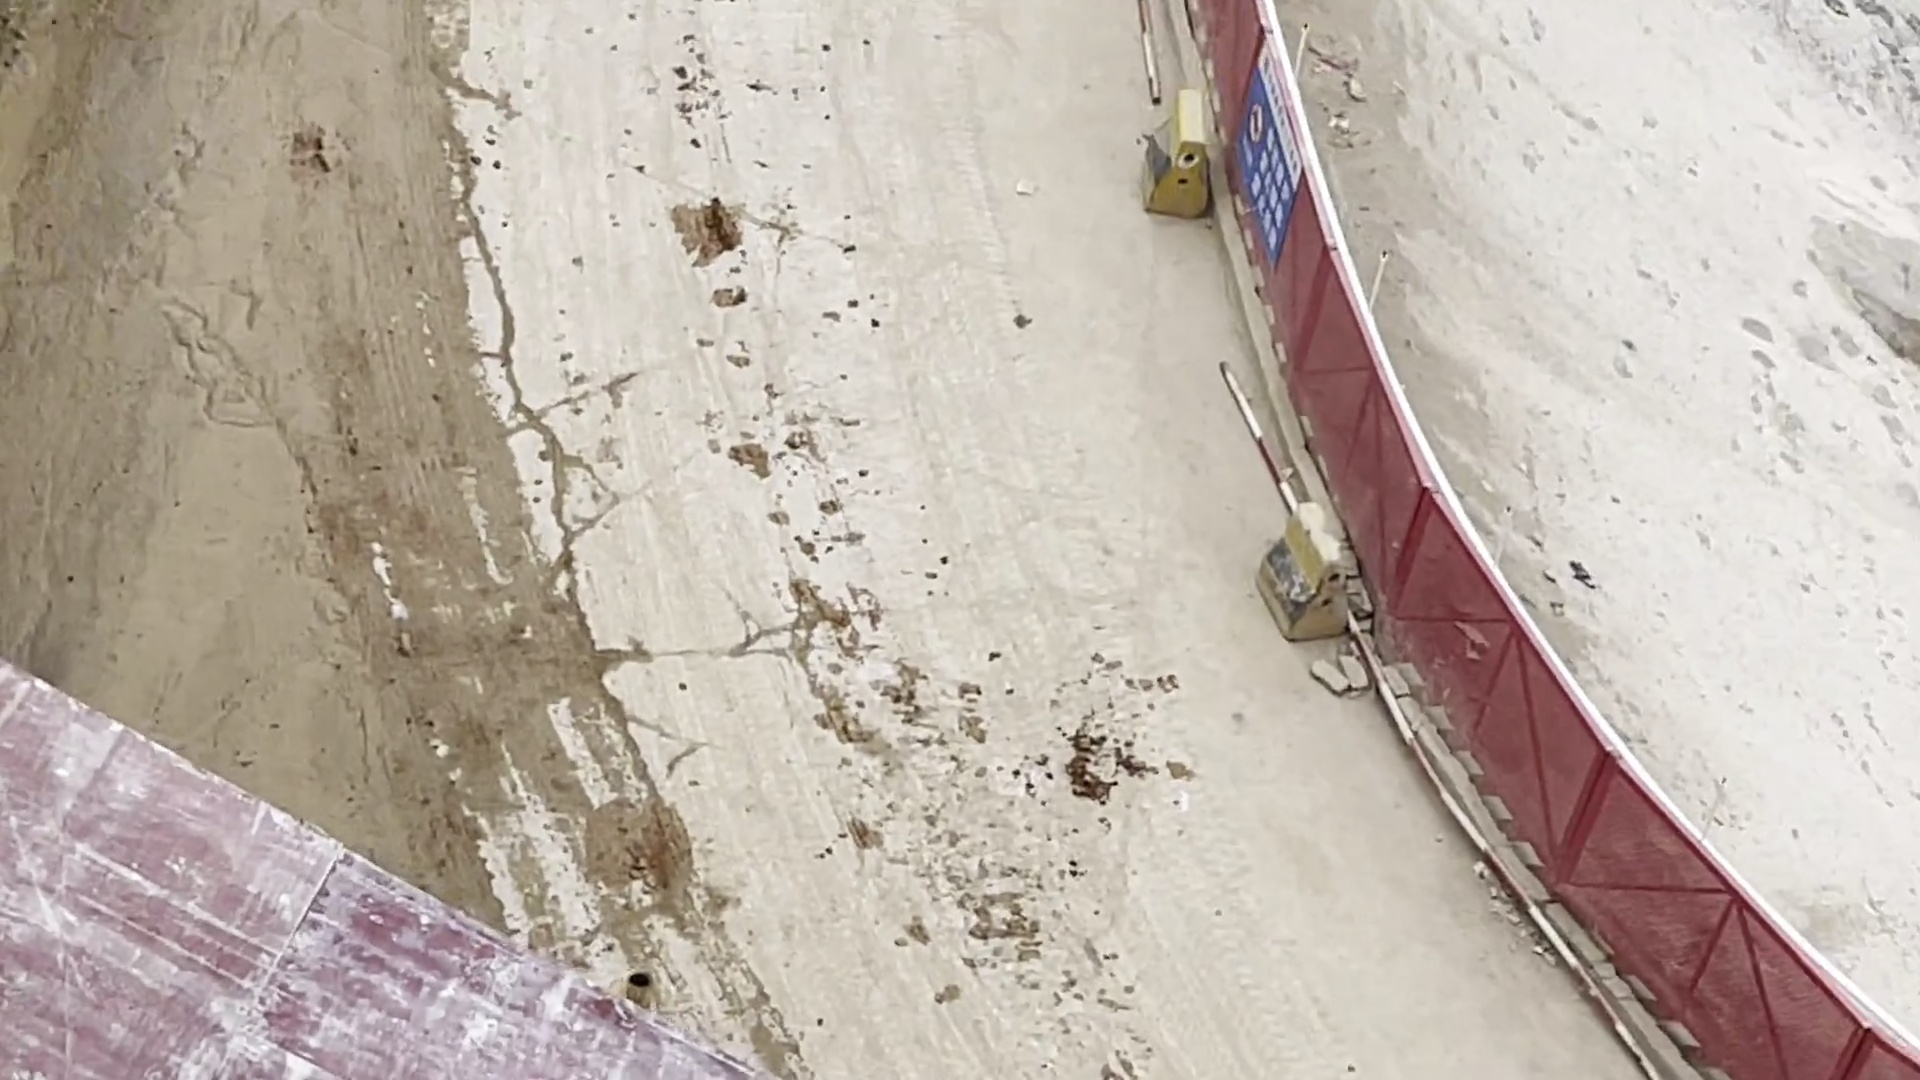fence: (1410, 493, 1920, 1080), (1182, 5, 1427, 669)
slogan: (1217, 32, 1337, 278)
